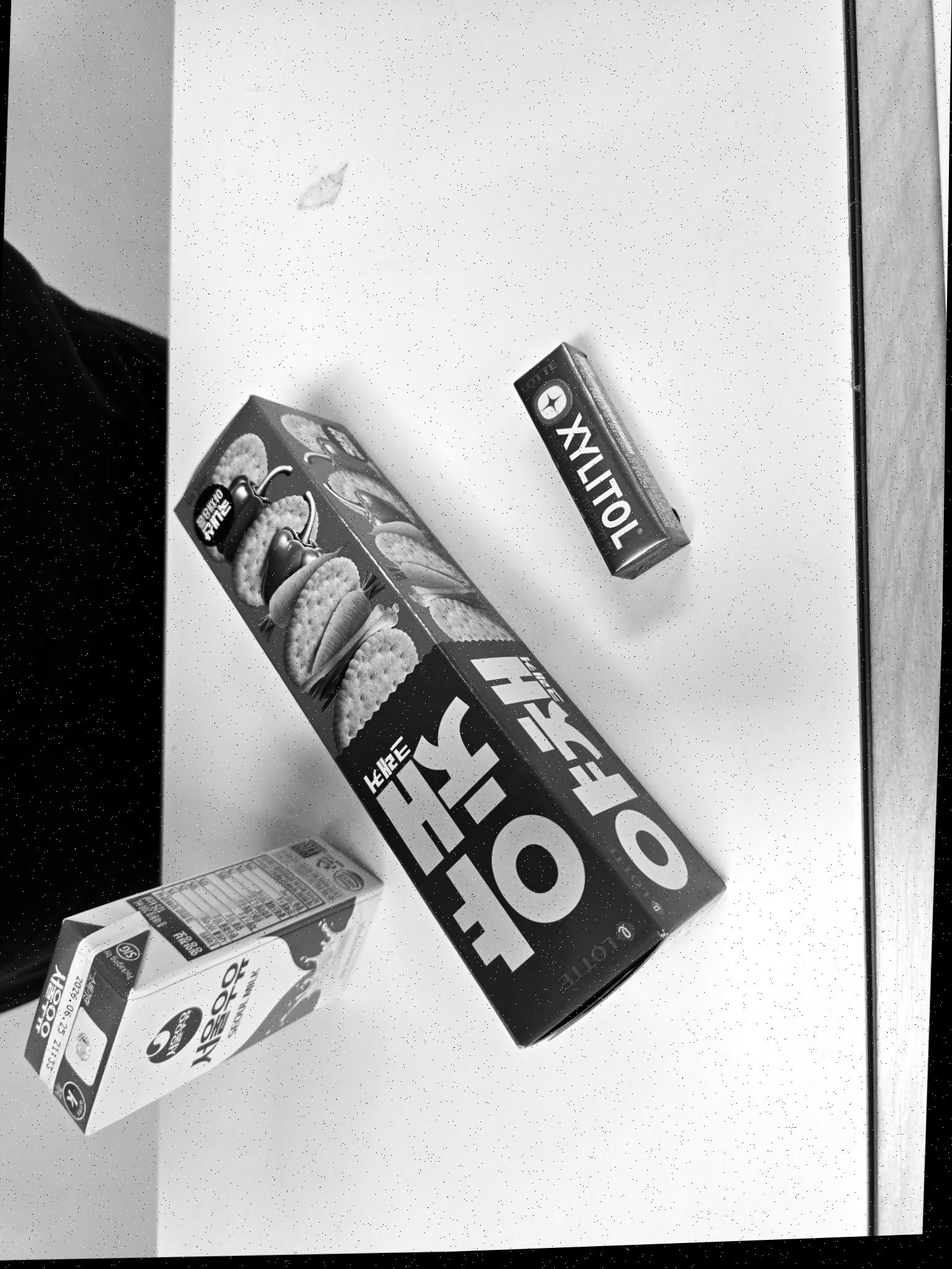cracker_vege: (176, 396, 724, 1047)
gum_green: (515, 343, 689, 579)
milk_green: (25, 837, 382, 1132)
